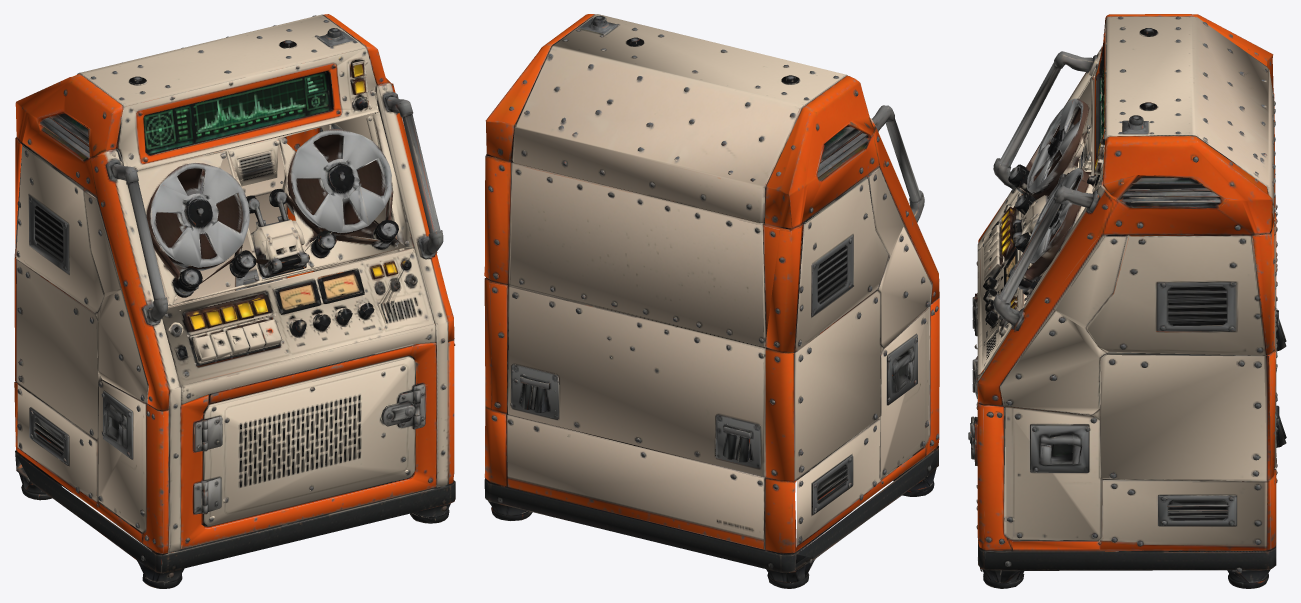
The model's file is ReelRecorder_T25.glb.
3 views of the same model, side by side, from view 1: azimuth 30°, elevation 25°; view 2: azimuth 150°, elevation 25°; view 3: azimuth 270°, elevation 25° (orthographic). The views are drawn at different scales.
Bounding box in the file's own units: 0.6909 × 0.9502 × 0.6089.
Materials: 1 (1 with a texture image).
